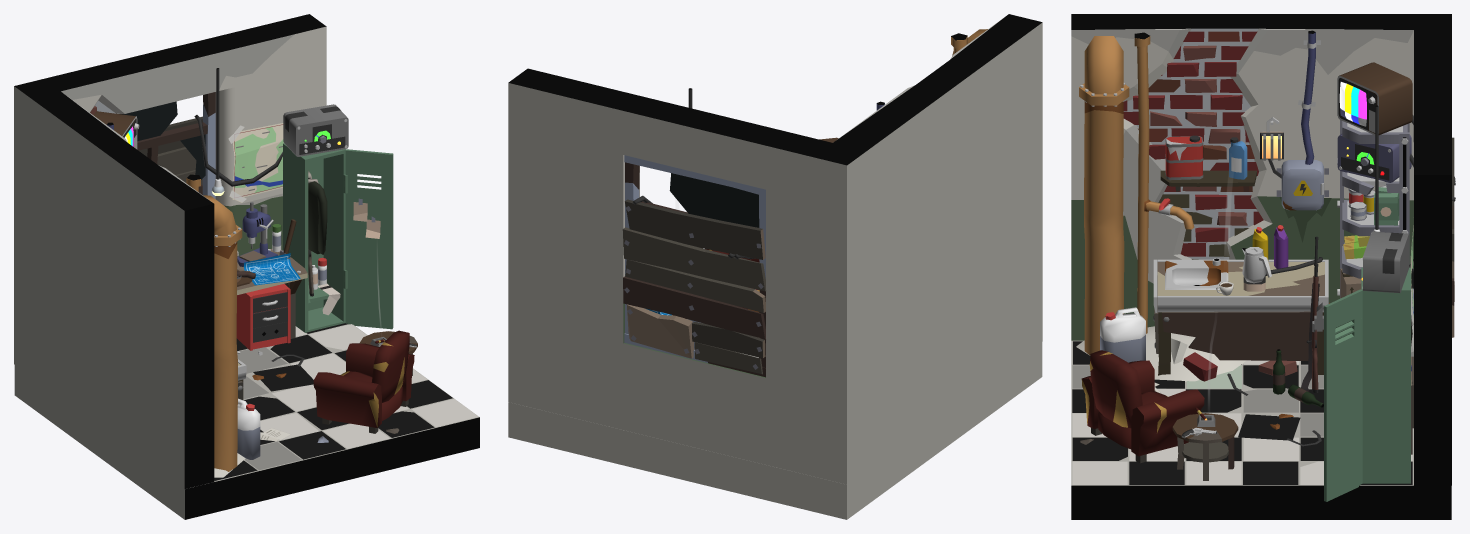
File: isometric_post-apocalyptic_room.glb
The picture shows the model from 3 angles, left to right: view 1: azimuth 30°, elevation 25°; view 2: azimuth 150°, elevation 25°; view 3: azimuth 270°, elevation 25°; orthographic projection. The views are drawn at different scales.
Visible parts, largest first — view 1: walls_1, floor_0, locker_12, armchair_26, tubes_4, window_3, workbench_9, map_22, radio_16, jacket_29, drill_34, water_7 (+5 smaller); view 2: walls_1, window_3, floor_0; view 3: walls_1, floor_0, locker_12, wetTable_5, tubes_4, armchair_26, shack_10, tv_11, debris_2, shelf_30, fusebox_13, radio_16 (+10 smaller).
Part boxes in pixels (left/top/right/bottom): walls_1: left=14, top=14, right=326, bottom=488; floor_0: left=14, top=323, right=479, bottom=519; locker_12: left=283, top=143, right=393, bottom=332; armchair_26: left=313, top=330, right=414, bottom=433; tubes_4: left=186, top=174, right=242, bottom=471; window_3: left=120, top=92, right=215, bottom=198; workbench_9: left=236, top=219, right=307, bottom=355; map_22: left=228, top=123, right=283, bottom=202; radio_16: left=283, top=104, right=348, bottom=156; jacket_29: left=308, top=170, right=327, bottom=254; drill_34: left=237, top=202, right=277, bottom=266; water_7: left=237, top=398, right=260, bottom=459; walls_1: left=508, top=14, right=1042, bottom=484; window_3: left=622, top=155, right=766, bottom=377; floor_0: left=508, top=342, right=1042, bottom=519; walls_1: left=1071, top=14, right=1451, bottom=485; floor_0: left=1071, top=340, right=1451, bottom=519; locker_12: left=1324, top=267, right=1410, bottom=501; wetTable_5: left=1153, top=247, right=1328, bottom=375; tubes_4: left=1079, top=32, right=1194, bottom=355; armchair_26: left=1081, top=350, right=1204, bottom=463; shack_10: left=1340, top=120, right=1409, bottom=298; tv_11: left=1337, top=62, right=1412, bottom=135; debris_2: left=1076, top=326, right=1413, bottom=455; shelf_30: left=1160, top=135, right=1256, bottom=191; fusebox_13: left=1276, top=30, right=1328, bottom=210; radio_16: left=1361, top=231, right=1409, bottom=293.
Size of the model in its own units: 2.19 by 2 by 2.02.
Materials: 3 (3 with a texture image).
